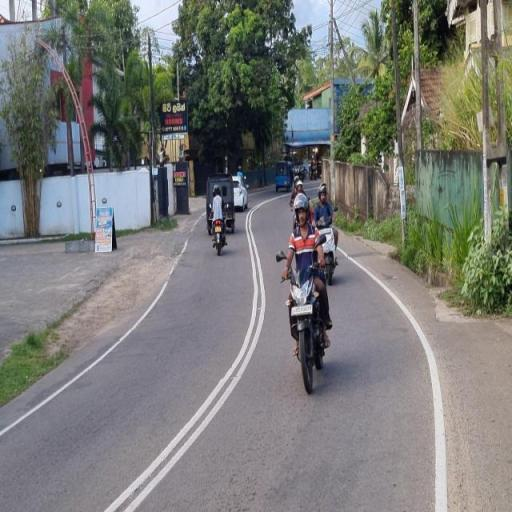double_white_line: (106, 230, 266, 512)
